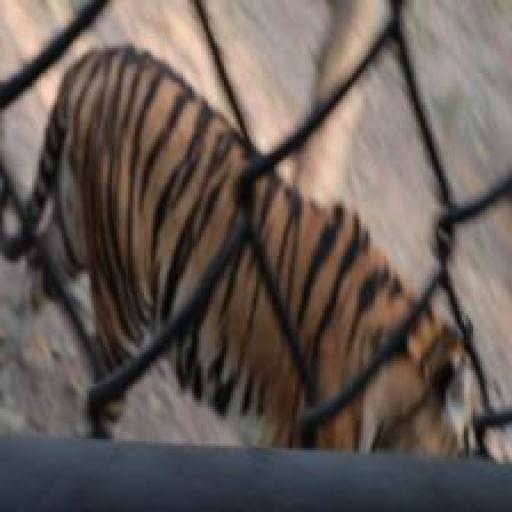Tiger: (28, 43, 484, 512)
